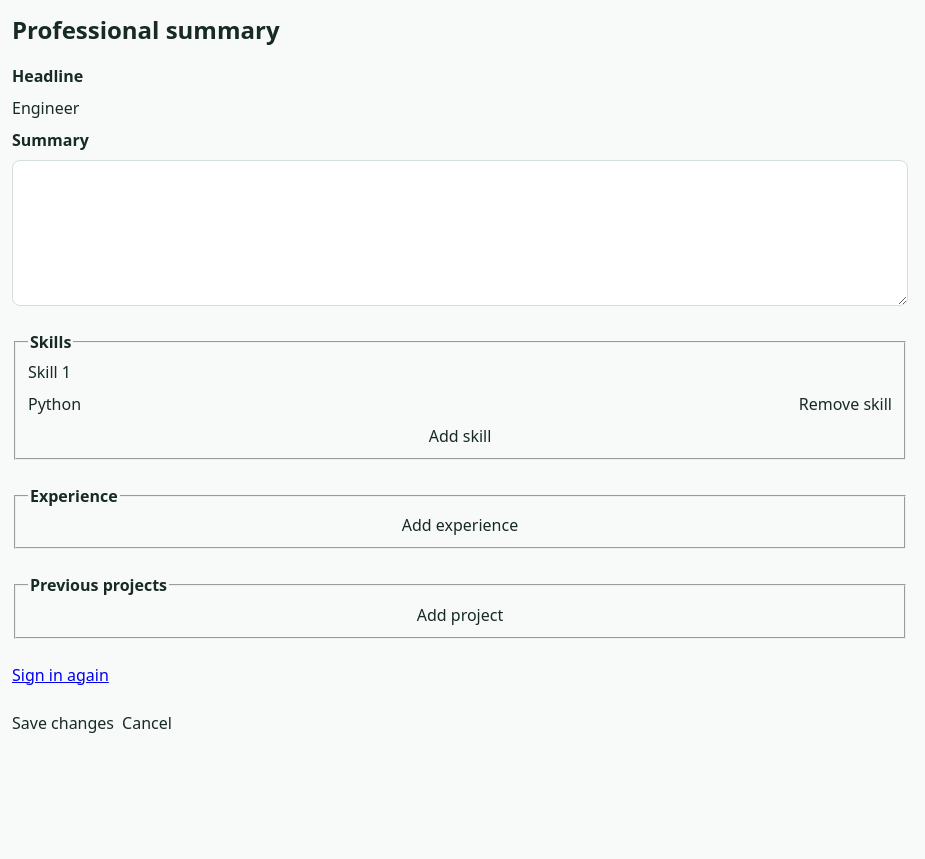
Test: professional profile form › shows nested 422 feedback at the matching repeated field
Replace the text in the field labelled "Headline" with "Senior engineer" at (460, 108), box [12,96,908,120]
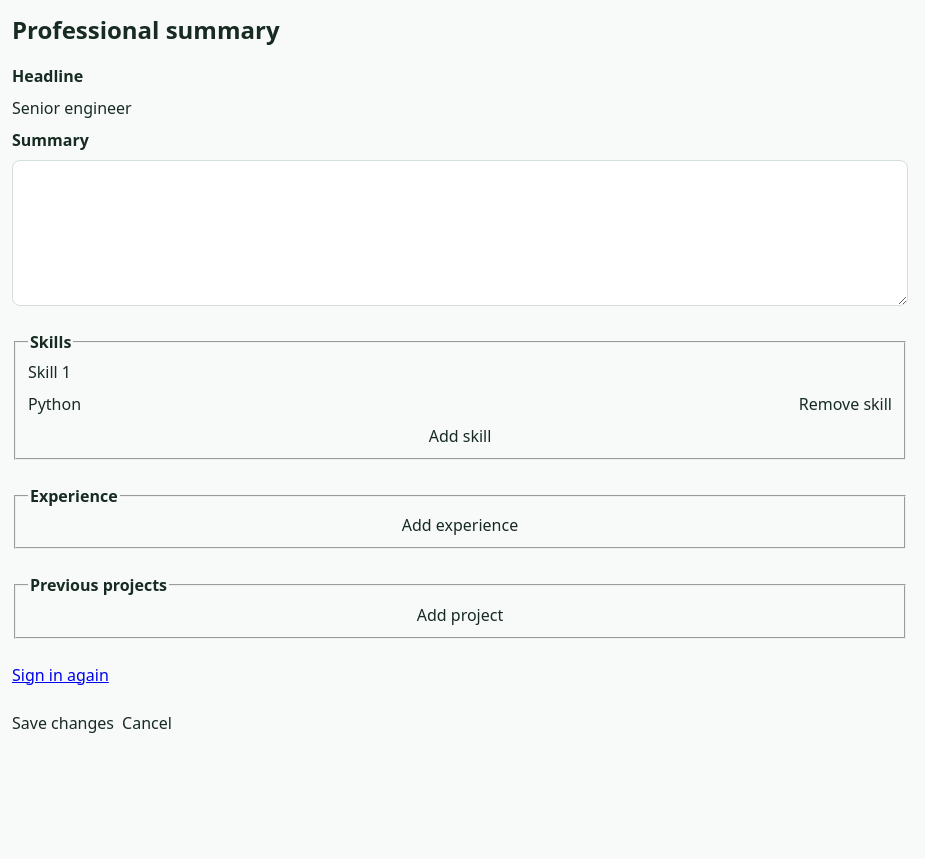
Submit the form
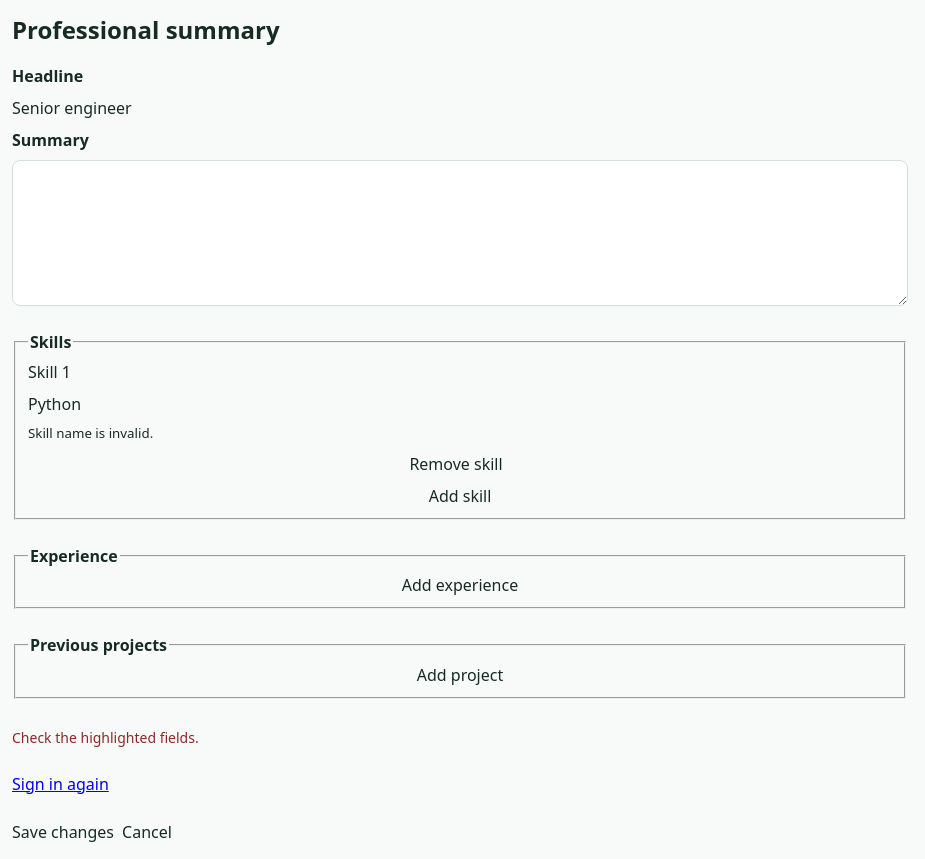
Now the form shows "Skill name is invalid.", box [28,424,153,442]
